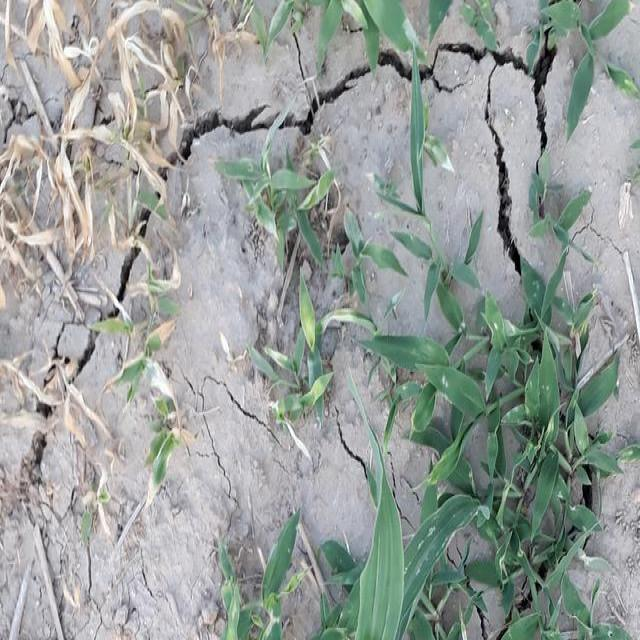weed: (363, 211, 640, 640)
